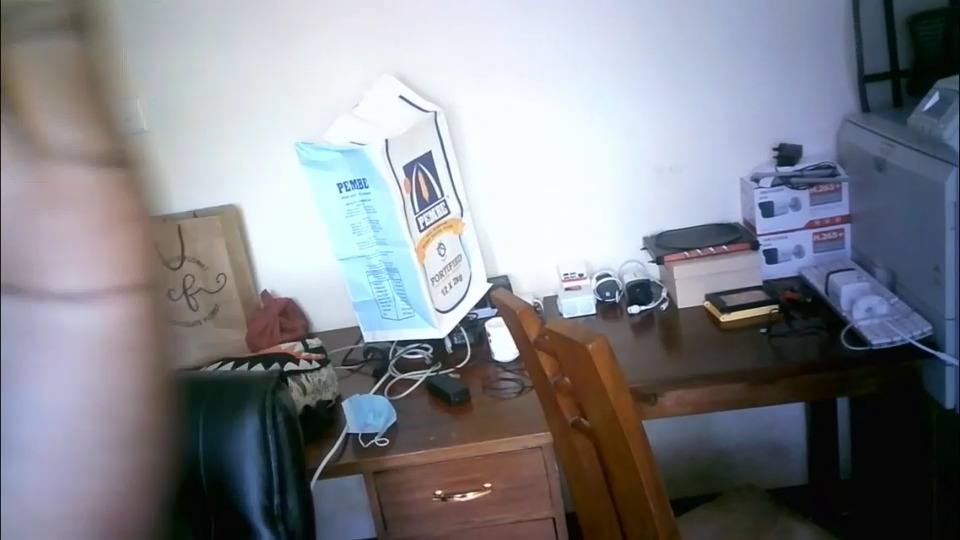wheat_flour_blue_label: (294, 75, 489, 340)
